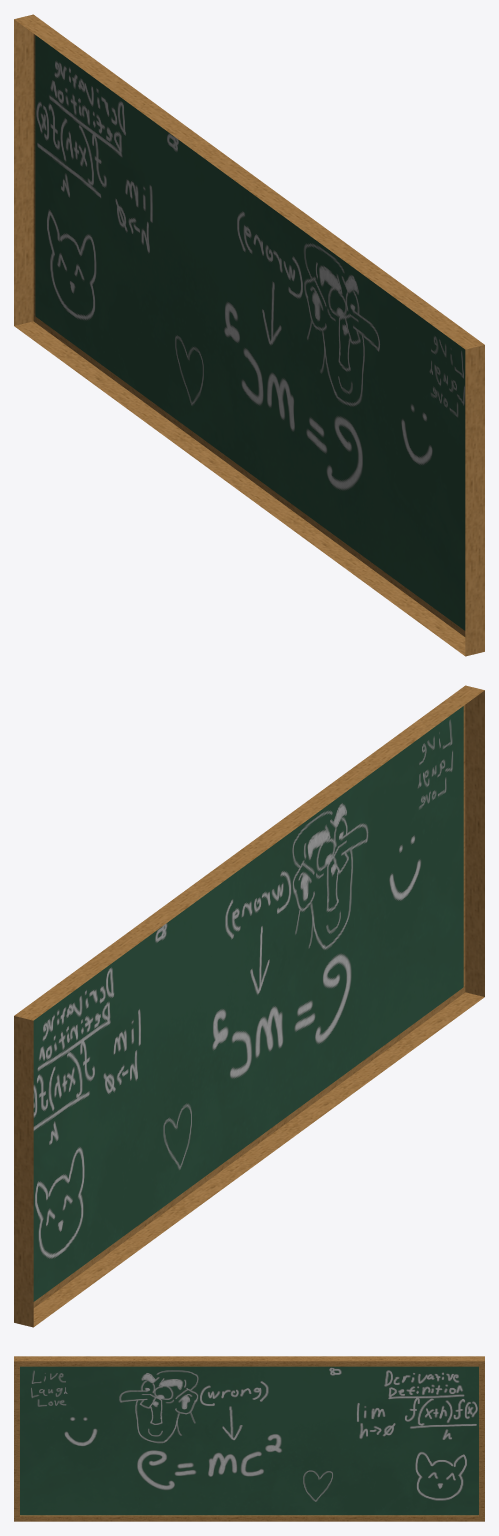
Rendered from chalkboard.gltf.
3 renders of one model, top to bottom at view 1: azimuth 30°, elevation 25°; view 2: azimuth 150°, elevation 25°; view 3: azimuth 270°, elevation 25°, orthographic. The views are drawn at different scales.
Parts seen in each view (by area): view 1: chalkboard.001; view 2: chalkboard.001; view 3: chalkboard.001.
Boxes of the visible parts, x1,y1,x2,y2 form: chalkboard.001: (14, 14, 484, 656); chalkboard.001: (14, 685, 484, 1327); chalkboard.001: (14, 1356, 484, 1521).
Size of the model in its own units: 0.2 by 3 by 8.
Materials: 1 (1 with a texture image).
